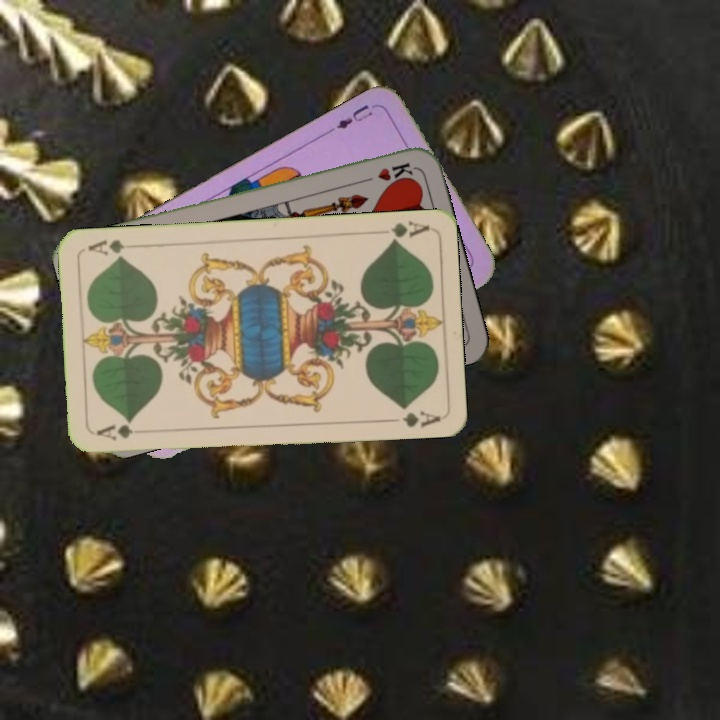EU: (326, 100, 376, 135)
GA: (386, 217, 431, 245), (92, 419, 135, 443)
HK: (357, 158, 415, 186)
